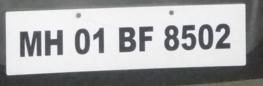0: (72, 27, 91, 55), (197, 23, 214, 52)
1: (92, 26, 108, 56)
2: (215, 22, 232, 50)
5: (182, 23, 197, 51)
8: (161, 24, 180, 52)
B: (116, 24, 138, 55)
F: (138, 25, 155, 54)
H: (44, 29, 66, 57)
M: (16, 27, 42, 58)
